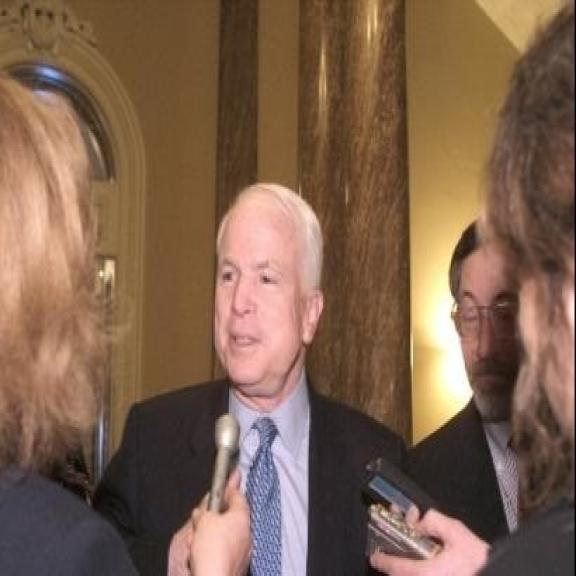face: (213, 209, 326, 401), (447, 241, 530, 422)
